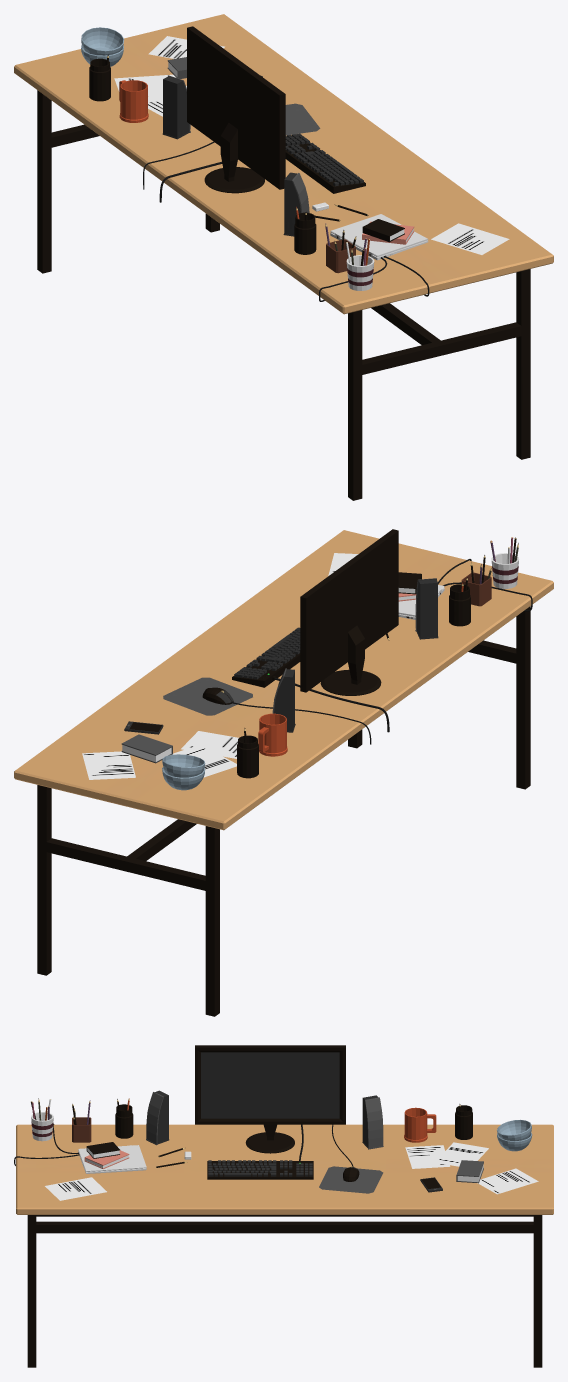
3 renders of one model, top to bottom at view 1: azimuth 30°, elevation 25°; view 2: azimuth 150°, elevation 25°; view 3: azimuth 270°, elevation 25°, orthographic. The views are drawn at different scales.
Visible parts, largest first — view 1: Desk, PC_Monitor, Boxes, Paper, PC_Speaker, PC_Keyboard, Notebook, Books, Dish, Mousepad, Pen; view 2: Desk, PC_Monitor, Boxes, Paper, PC_Speaker, PC_Keyboard, Mousepad, Books, Dish, Pen; view 3: Desk, PC_Monitor, Paper, Boxes, PC_Speaker, PC_Keyboard, Books, Mousepad, Notebook, Dish, Pen.
Part boxes in pixels (bbox=[...]): Desk: bbox=[14, 14, 553, 500]; PC_Monitor: bbox=[187, 26, 285, 193]; Boxes: bbox=[89, 58, 374, 290]; Paper: bbox=[114, 36, 509, 254]; PC_Speaker: bbox=[162, 75, 309, 236]; PC_Keyboard: bbox=[285, 133, 365, 193]; Notebook: bbox=[330, 214, 428, 260]; Books: bbox=[167, 57, 414, 244]; Dish: bbox=[81, 27, 124, 66]; Mousepad: bbox=[285, 103, 320, 135]; Pen: bbox=[106, 54, 369, 265]; Desk: bbox=[14, 530, 553, 1016]; PC_Monitor: bbox=[300, 529, 398, 695]; Boxes: bbox=[237, 553, 518, 778]; Paper: bbox=[82, 553, 358, 779]; PC_Speaker: bbox=[272, 578, 438, 732]; PC_Keyboard: bbox=[232, 627, 300, 687]; Mousepad: bbox=[163, 677, 252, 715]; Books: bbox=[121, 572, 421, 763]; Dish: bbox=[162, 754, 205, 790]; Pen: bbox=[244, 537, 518, 743]; Desk: bbox=[16, 1124, 553, 1367]; PC_Monitor: bbox=[195, 1045, 345, 1153]; Paper: bbox=[45, 1142, 538, 1200]; Boxes: bbox=[31, 1104, 472, 1142]; PC_Speaker: bbox=[146, 1090, 383, 1149]; PC_Keyboard: bbox=[207, 1160, 313, 1179]; Books: bbox=[84, 1142, 483, 1183]; Mousepad: bbox=[319, 1166, 383, 1193]; Notebook: bbox=[78, 1145, 146, 1173]; Dish: bbox=[497, 1119, 532, 1151]; Pen: bbox=[31, 1098, 460, 1167].
Size of the model in its own units: 231 by 324 by 602.
19 materials, 17 textured.
